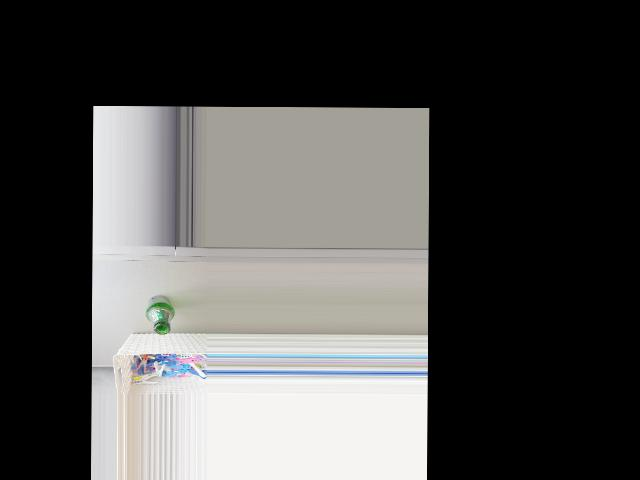beer: (145, 294, 175, 334)
